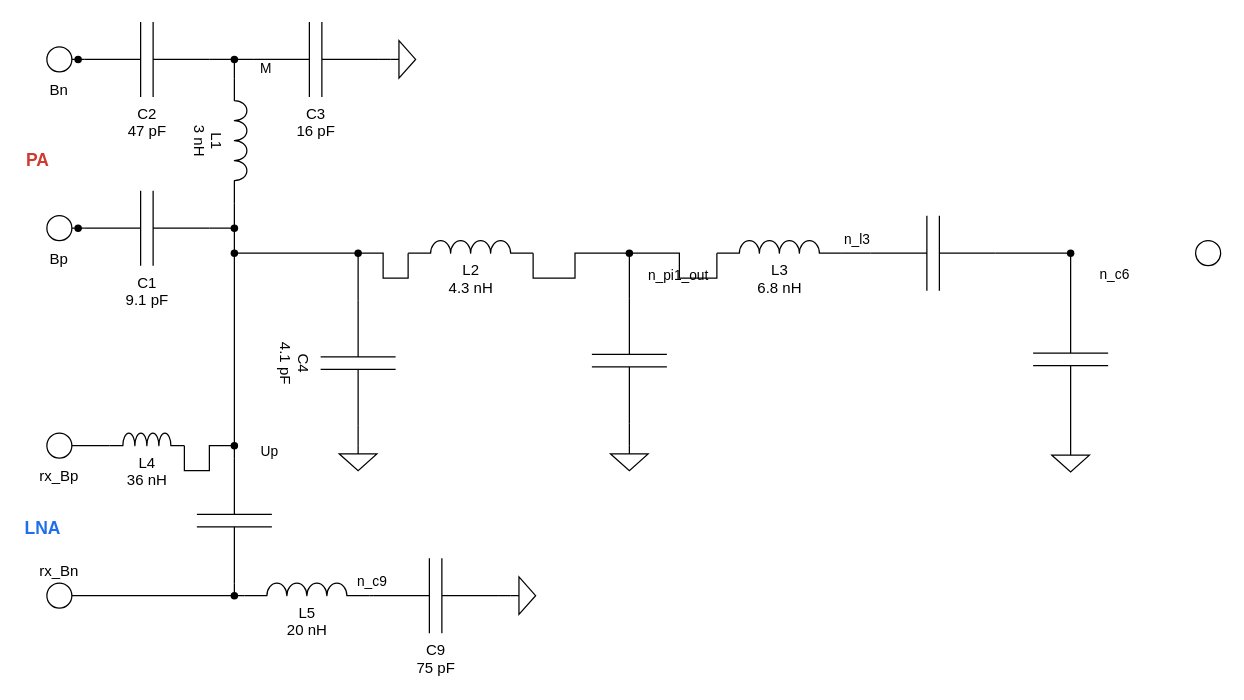
The diagram is 1244 pixels wide and 700 high, and some of its shapes have lost their labels. The box of each missing label's shape, as (x1, y1, x2, y2) in pixels:
ANT: (1194, 239, 1221, 266)
C5 7.6 pF: (591, 297, 667, 423)
C6 3.3 pF: (1032, 296, 1108, 422)
C7 0.7p: (196, 457, 272, 583)
C8 75 pF: (869, 214, 996, 291)
